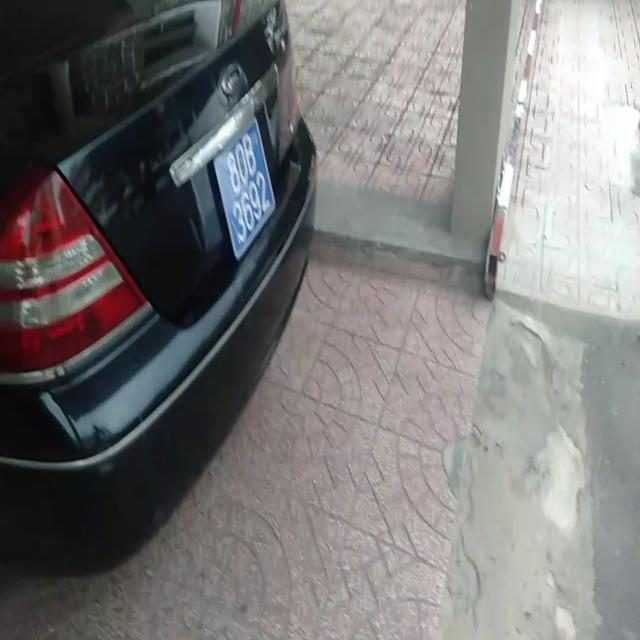bien_xanh: (210, 131, 274, 255)
